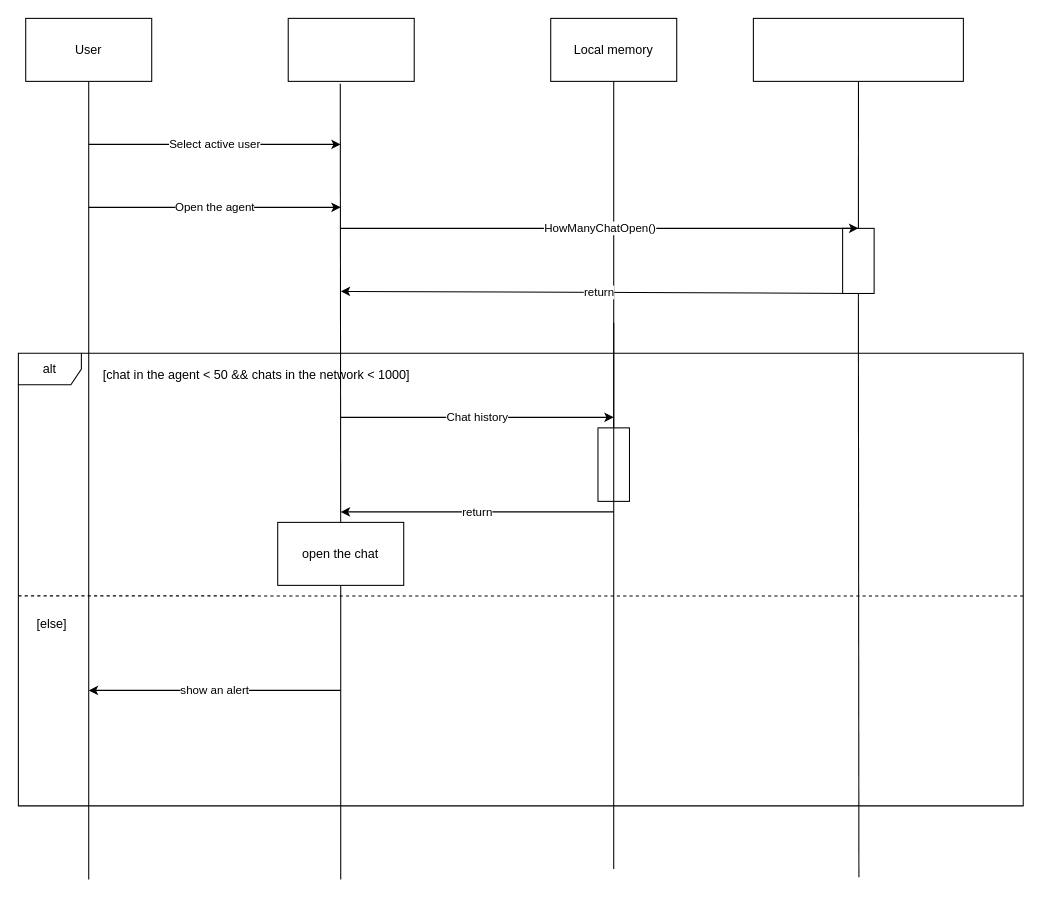
Some shapes in this 1044 by 899 pixel diagram are drawn without their labels. The shapes that lost their labels are listed below. From the top down, each one's centre as x and y in pixels, then its label:
At pixel 350 49: "Application".
At pixel 857 49: ": Communication System".
